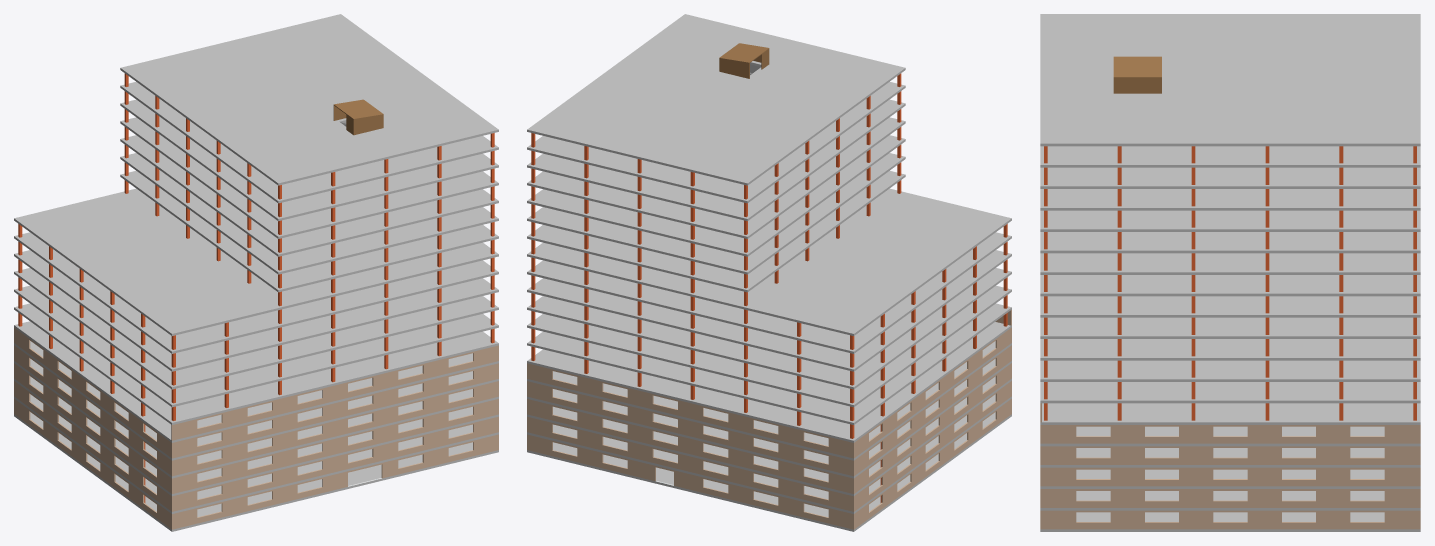
The model's file is building-under-construction.glb.
3 views of the same model, side by side, from view 1: azimuth 30°, elevation 25°; view 2: azimuth 150°, elevation 25°; view 3: azimuth 270°, elevation 25° (orthographic). The views are drawn at different scales.
Visible parts, largest first — view 1: Building; view 2: Building; view 3: Building.
Part boxes in pixels (x1,y1,x2,y2): Building: [14, 14, 498, 531]; Building: [527, 14, 1011, 531]; Building: [1040, 14, 1420, 531].
Size of the model in its own units: 61.5 by 60.93 by 51.5.
1 material, 1 textured.
